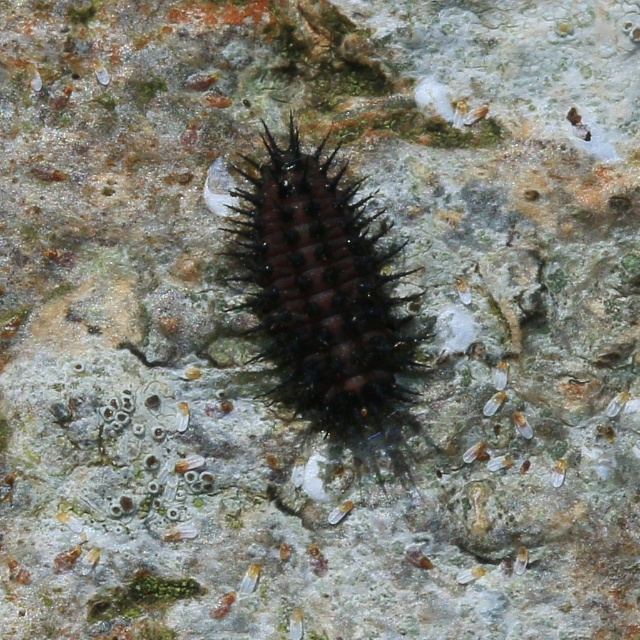Caterpillar: (207, 108, 417, 437)
